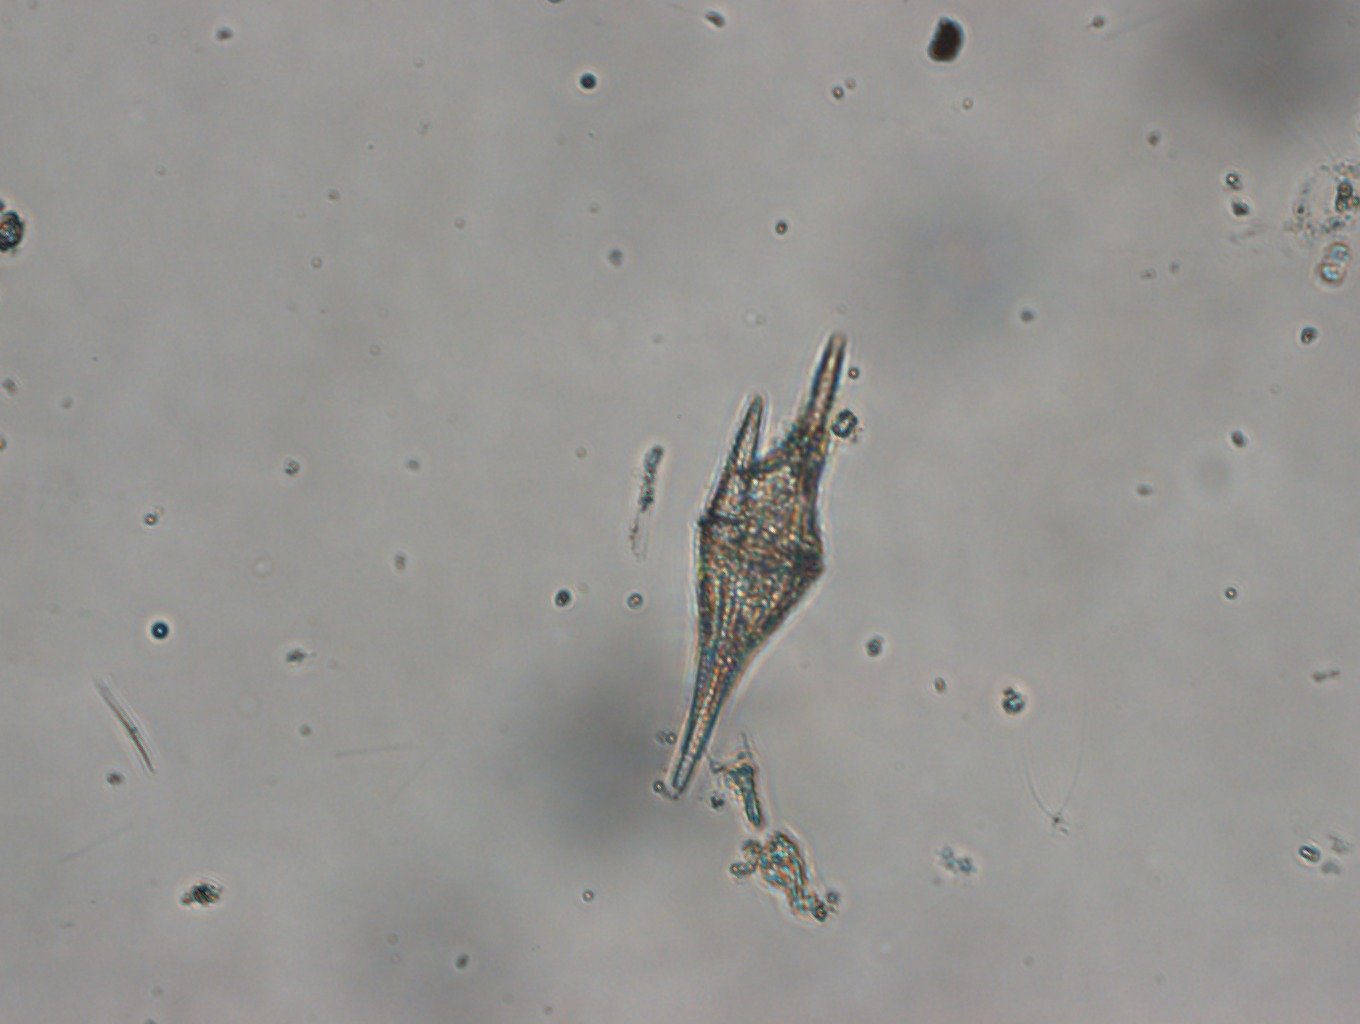ceratium furca: (660, 332, 849, 790)
